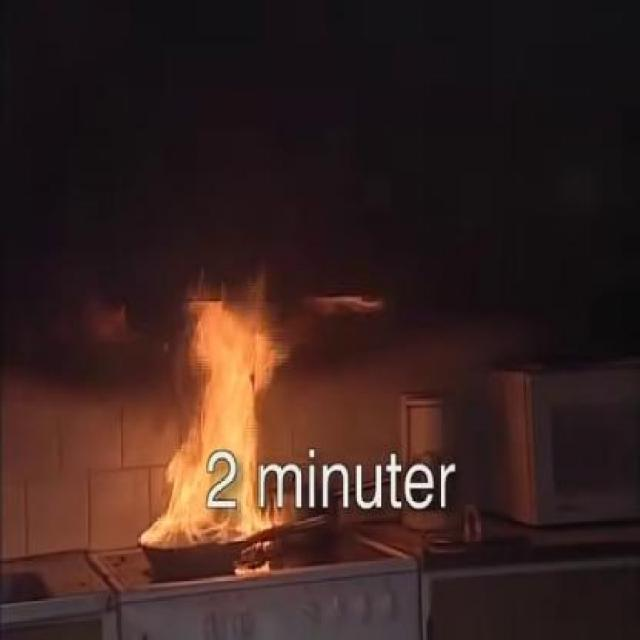fire: (166, 303, 266, 531), (47, 273, 136, 387), (242, 230, 356, 292)
